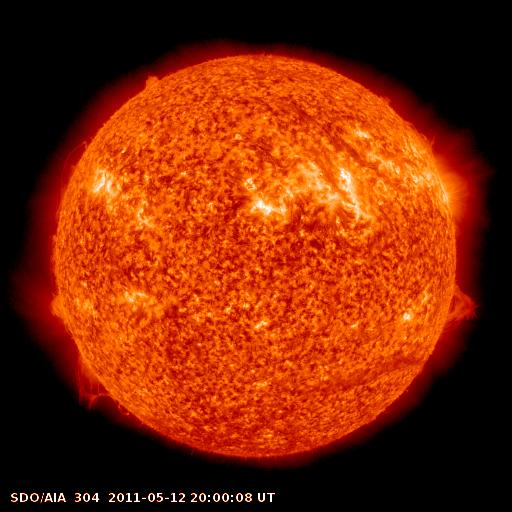prominence: (62, 351, 146, 429), (46, 132, 95, 221), (435, 275, 486, 333), (42, 289, 80, 331), (40, 236, 66, 286), (134, 66, 164, 99)
